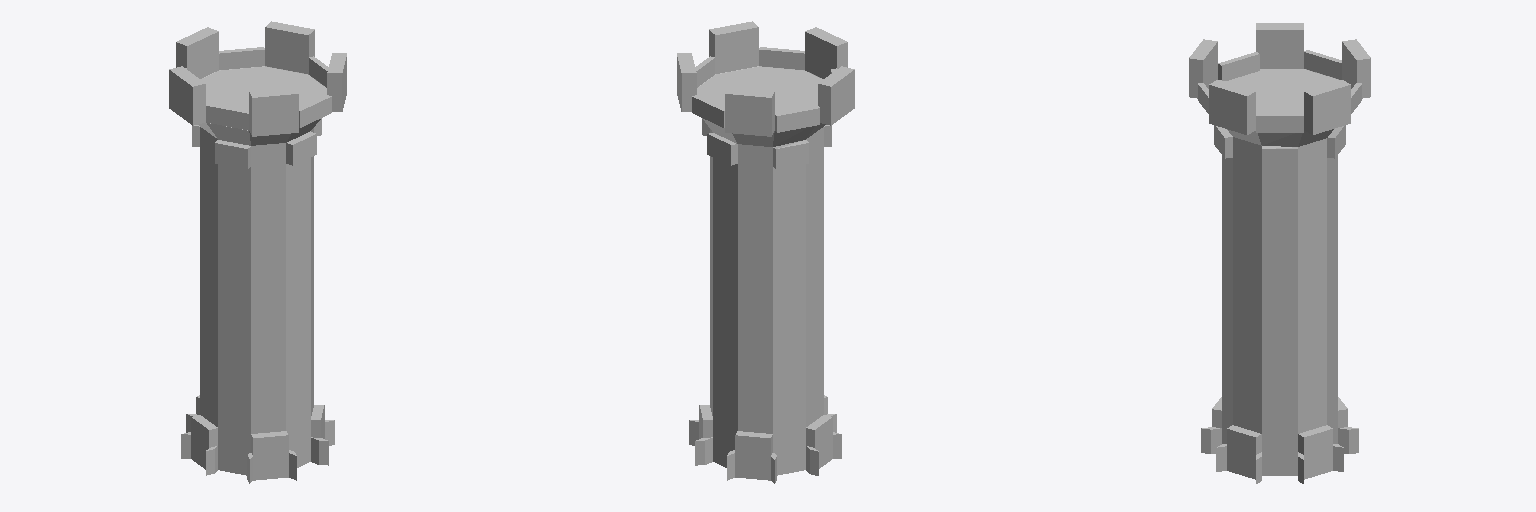
File: Tower.obj
3 renders of one model, left to right at view 1: azimuth 30°, elevation 25°; view 2: azimuth 150°, elevation 25°; view 3: azimuth 270°, elevation 25°, orthographic.
Parts seen in each view (by area): view 1: Cylinder_Cylinder.006; view 2: Cylinder_Cylinder.006; view 3: Cylinder_Cylinder.006.
Part boxes in pixels (bbox=[...]): Cylinder_Cylinder.006: bbox=[169, 21, 346, 483]; Cylinder_Cylinder.006: bbox=[677, 21, 854, 483]; Cylinder_Cylinder.006: bbox=[1189, 23, 1370, 483].
Size of the model in its own units: 2.97 by 7.42 by 3.12.